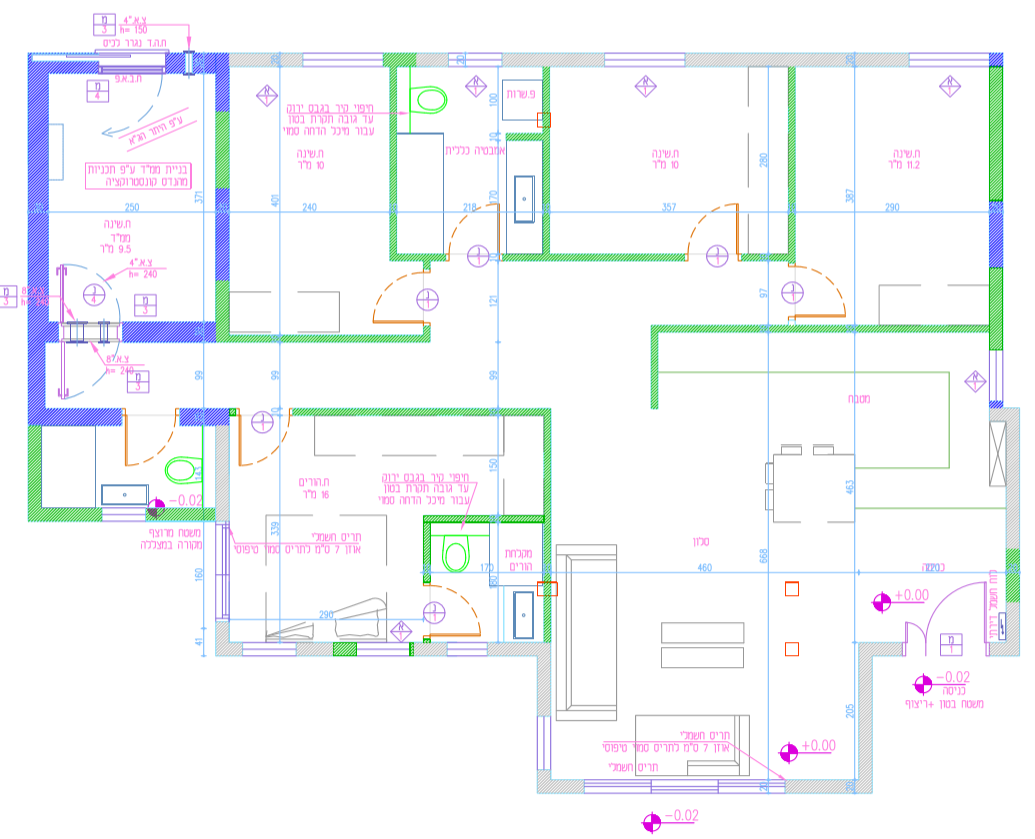door: (901, 575, 993, 641), (676, 195, 743, 250), (369, 265, 420, 328), (801, 258, 851, 320), (444, 202, 502, 250), (234, 428, 296, 471), (120, 426, 165, 467)
window: (299, 49, 387, 71), (600, 51, 688, 73), (904, 48, 992, 70), (213, 519, 231, 622), (239, 639, 299, 660), (443, 50, 506, 69), (99, 504, 148, 527), (354, 640, 413, 658), (444, 640, 491, 659)
